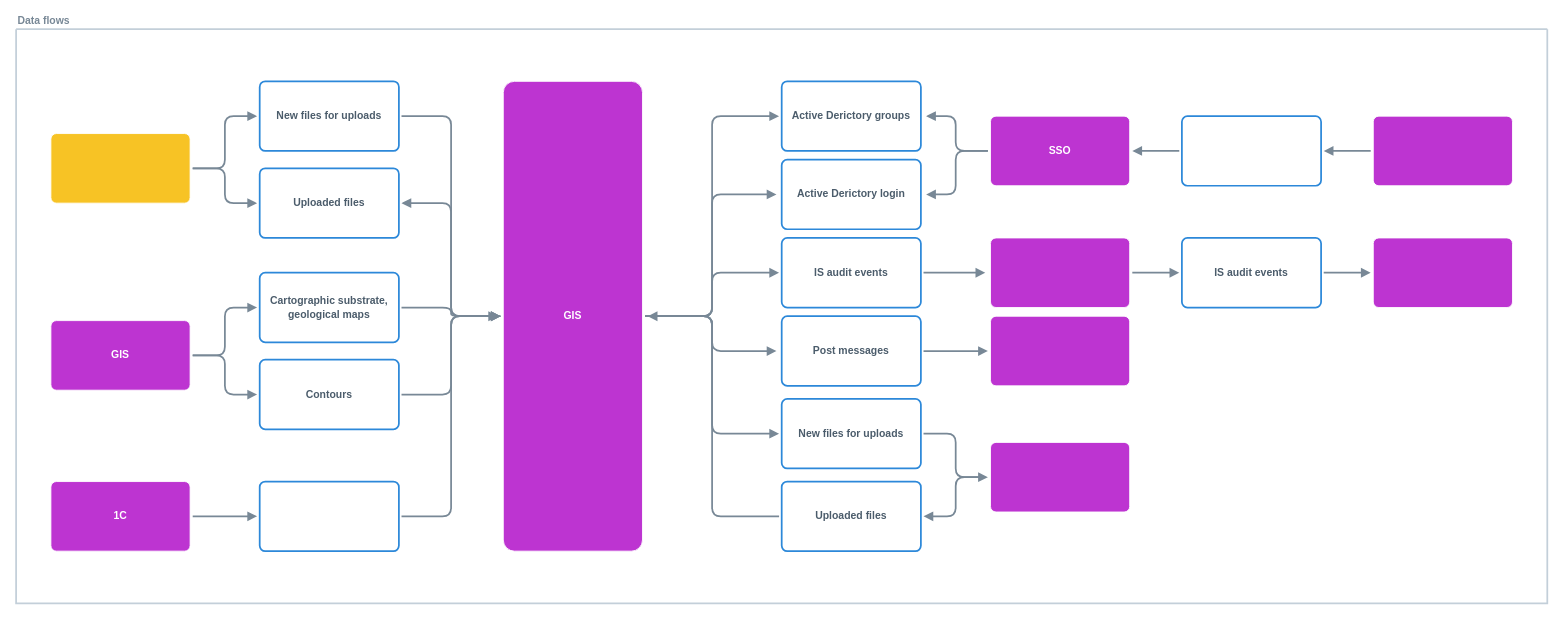
The diagram is 1563 pixels wide and 619 high, and some of its shapes have lost their labels. Here are the shapes that lost their labels. From the top down, the centre of each, then its label:
At point 120,168: "User".
At point 1251,150: "Authentication data".
At point 1442,150: "Active Directory".
At point 1060,272: "FluentD".
At point 1442,272: "ArcSight".
At point 1060,350: "Microsoft Exchange".
At point 1060,477: "Cloudian HyperStore".
At point 328,516: "Directories, fields, subsoil users".
